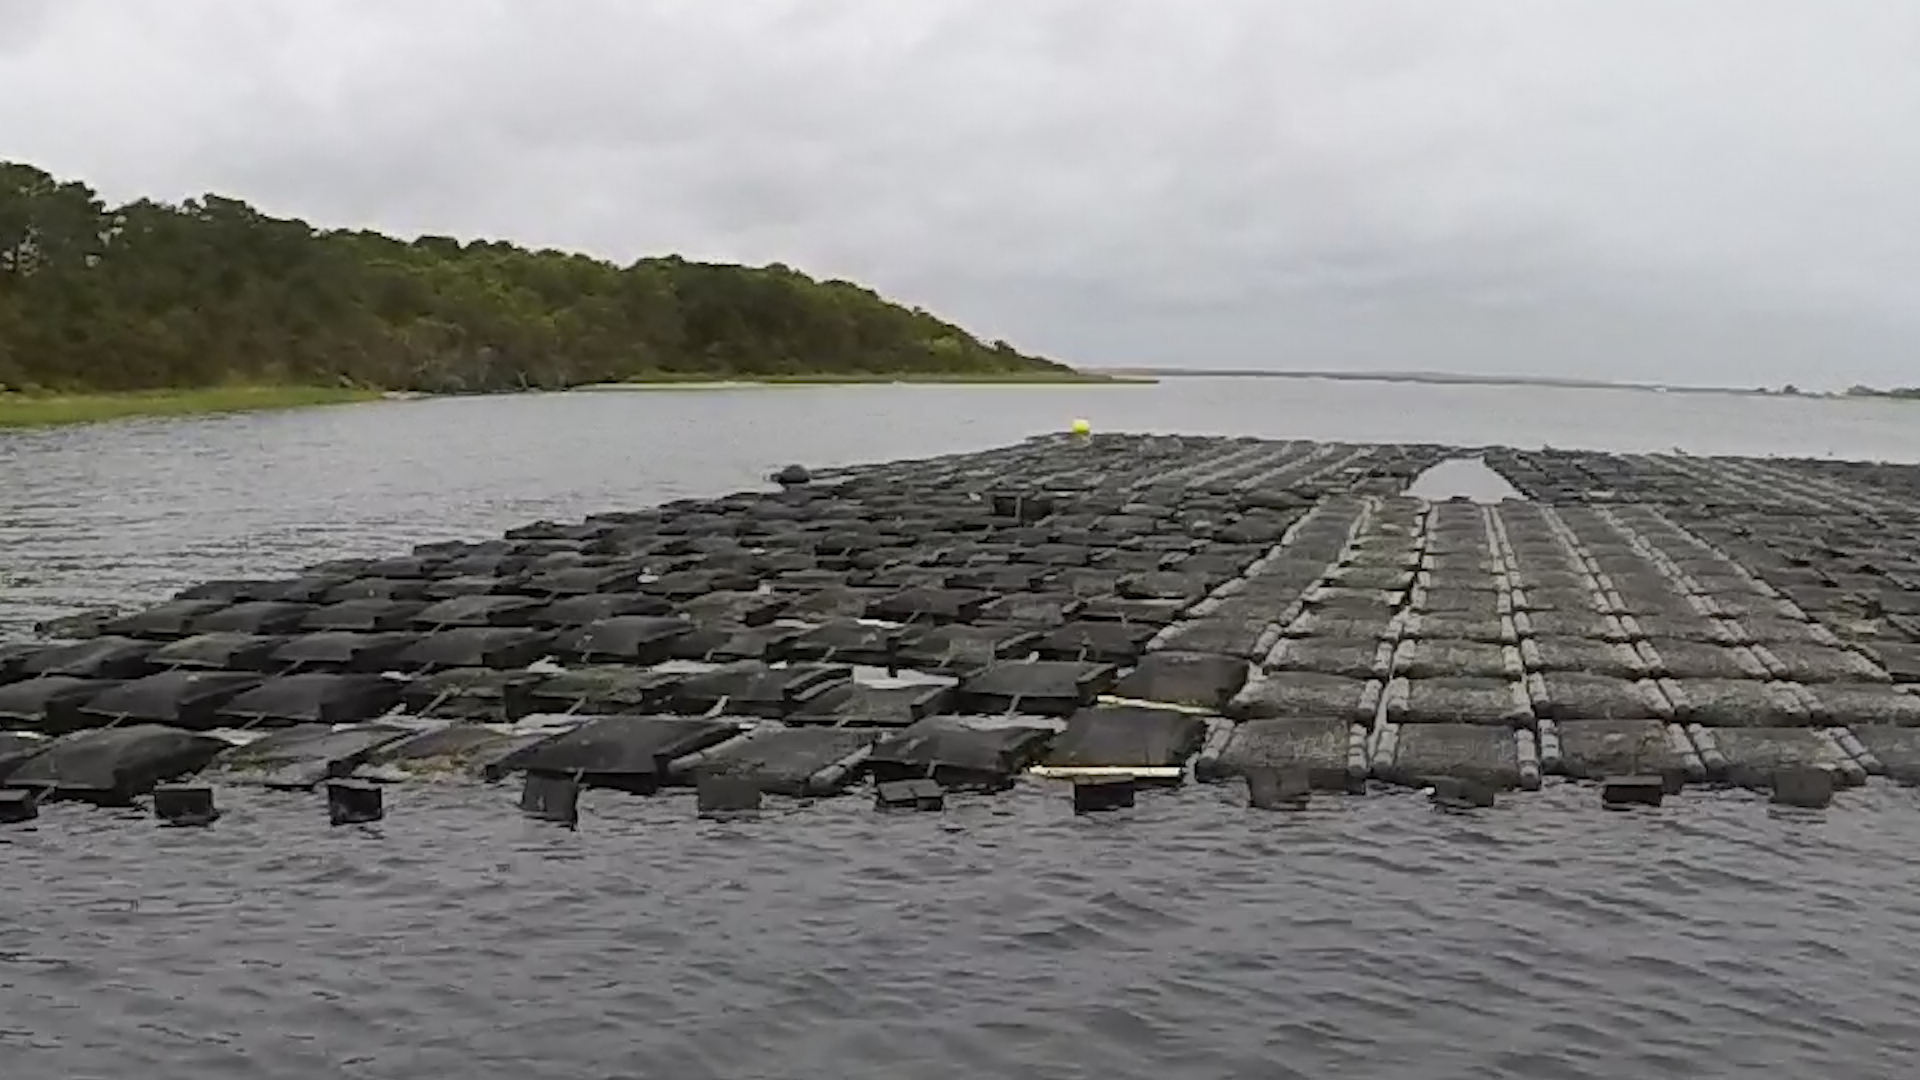bag: (487, 712, 736, 789), (1691, 709, 1863, 790), (1033, 709, 1197, 793), (679, 717, 880, 785), (1205, 704, 1367, 782), (1375, 716, 1536, 793), (862, 716, 1048, 782), (1536, 717, 1705, 782)
